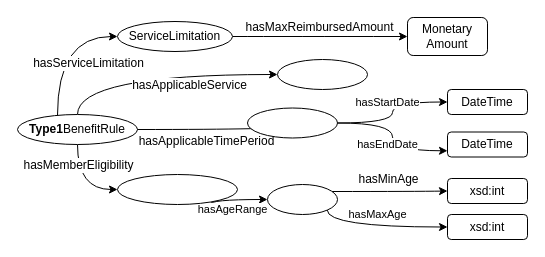
This 545x257 diagram has some shape labels left out. The shapes that lost their labels are listed below. From the top down, each one's centre as x and y in pixels, then its label:
At point 322,74: "Service".
At point 292,122: "TimePeriod".
At point 177,189: "MemberEligibility".
At point 302,199: "AgeRange".
